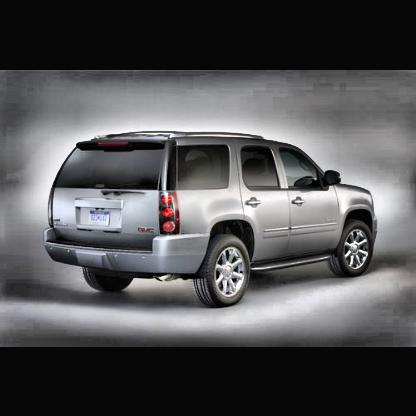Chevrolet Tahoe Hybrid SUV 2012: (44, 130, 379, 308)
